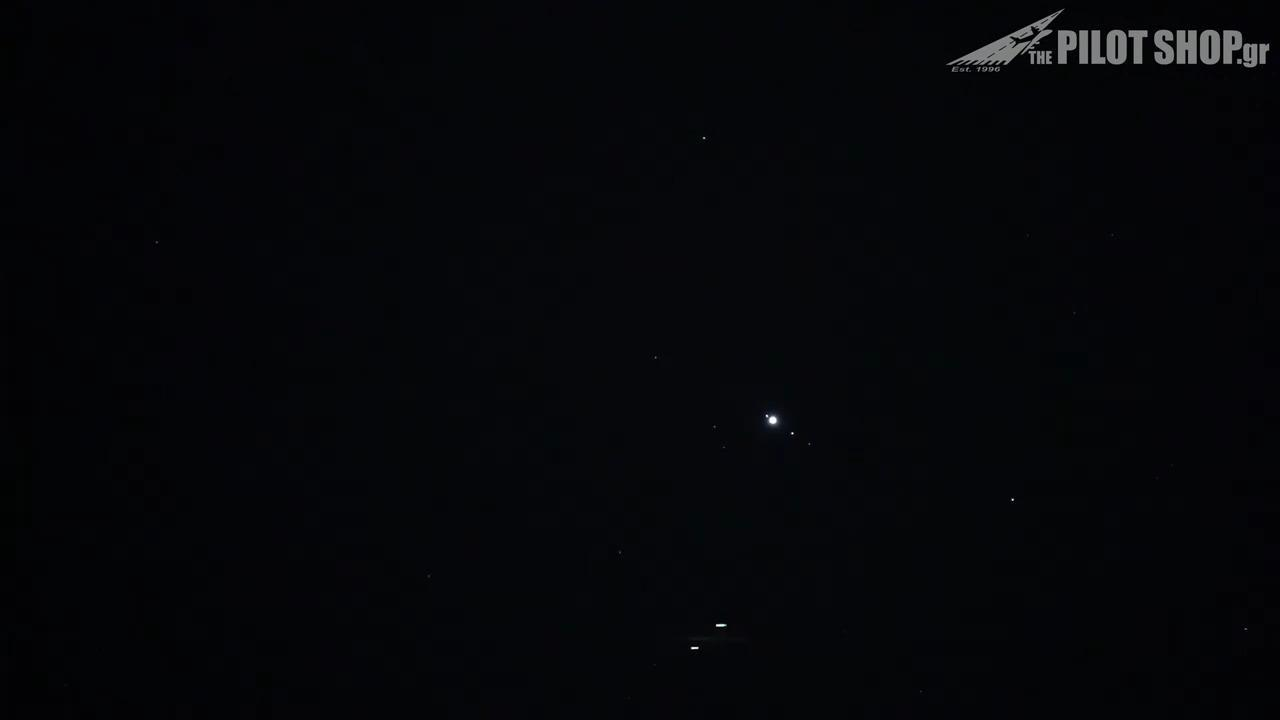Plane: (667, 616, 752, 661)
